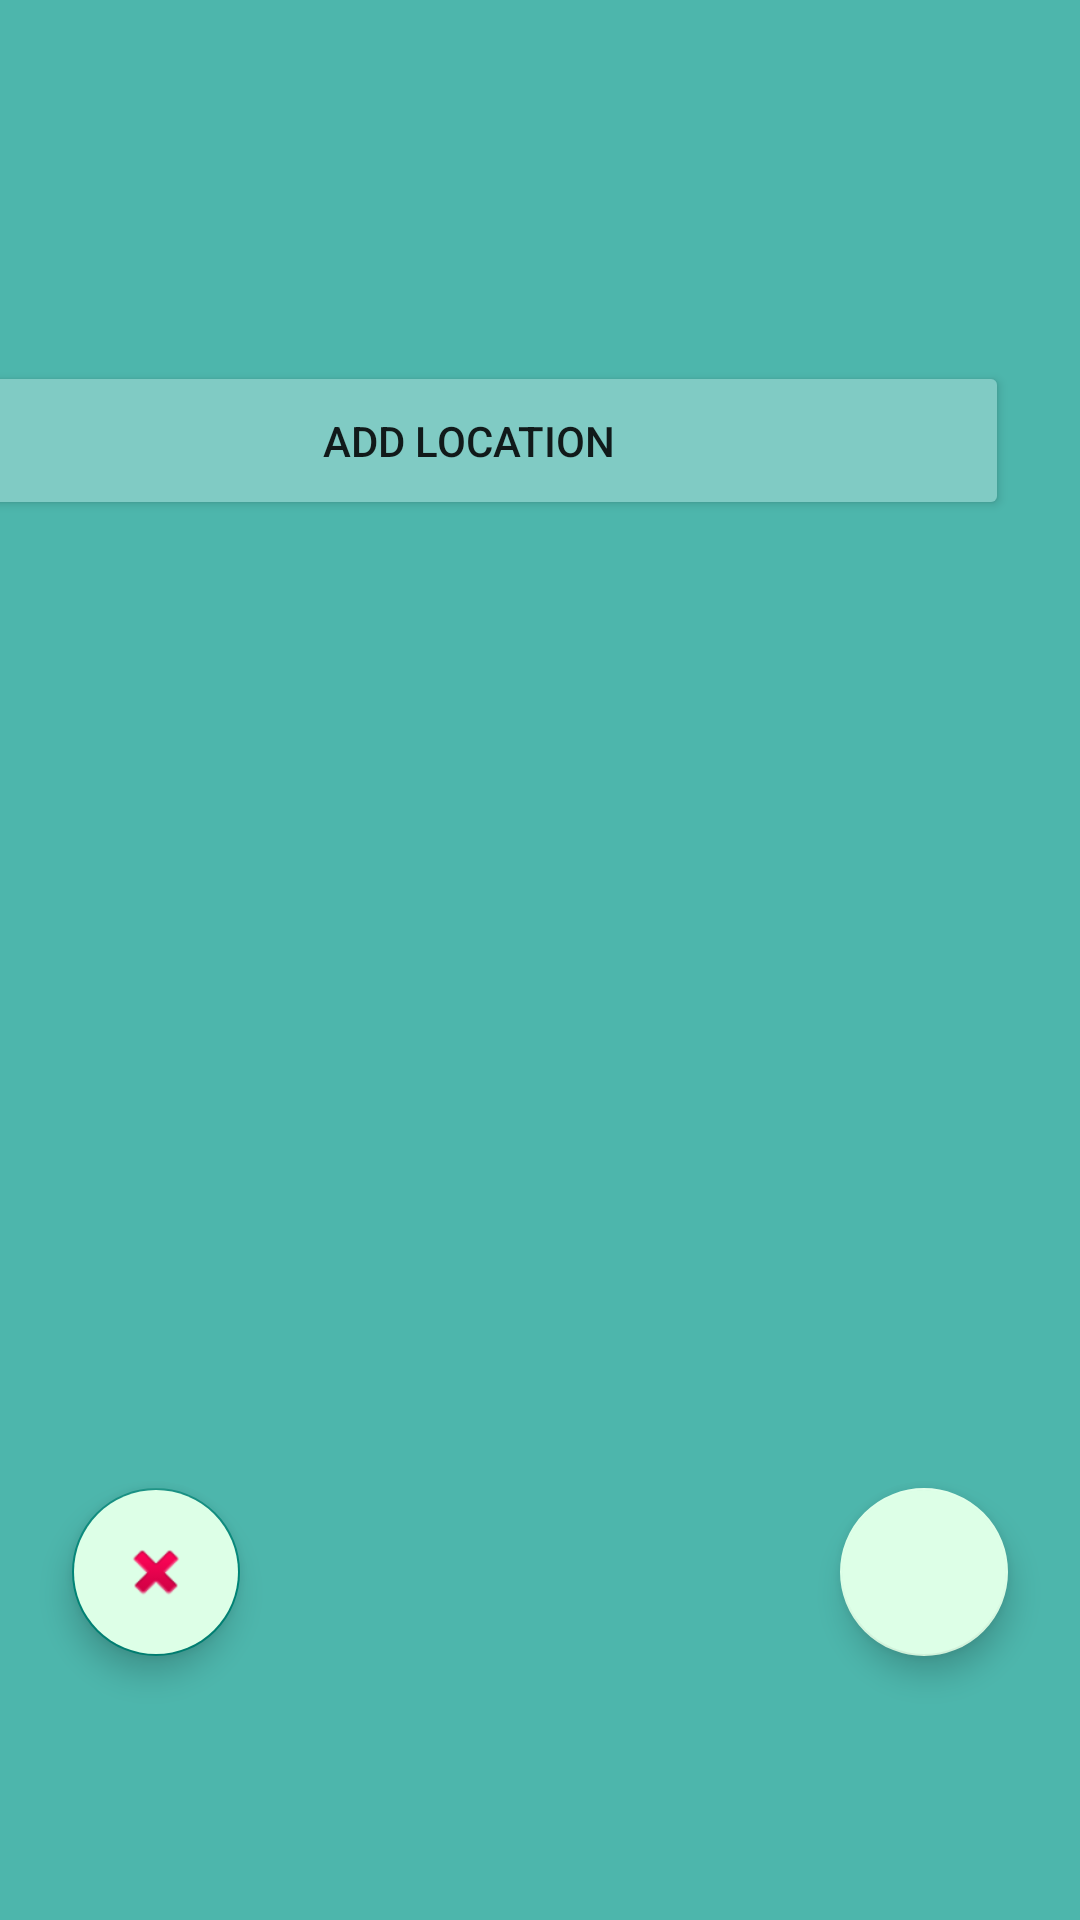

Locate icon controls on the screen. Image size 1080px x 1920px, boxes as [x1=x1, y1=y1, x2=x2, y2=y2].
delete: [x1=72, y1=1488, x2=240, y2=1656]
